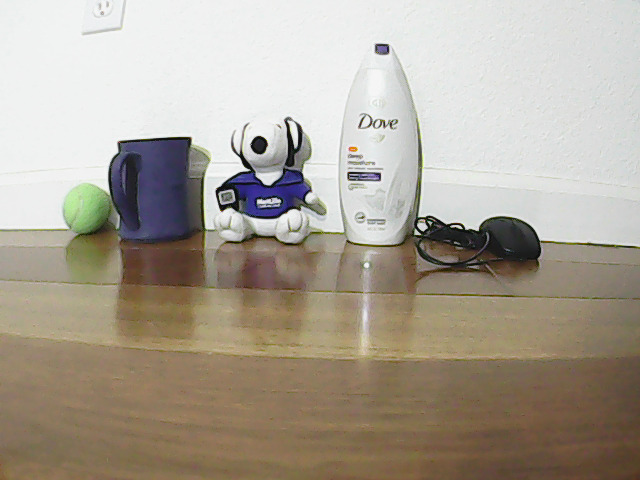ball: (50, 176, 112, 232)
mouse: (483, 208, 556, 273)
mug: (104, 116, 196, 237)
snoopy: (234, 105, 314, 248)
soap: (346, 16, 418, 246)
